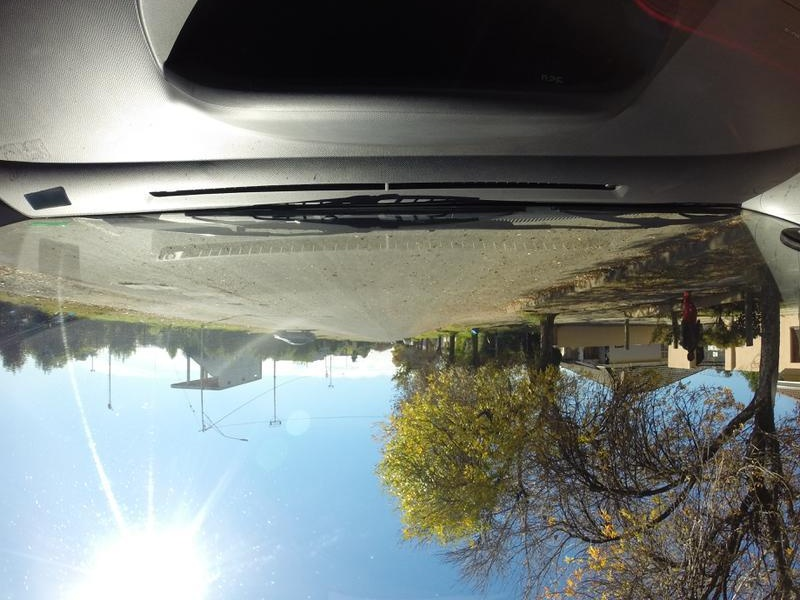pothole: (117, 279, 143, 286), (149, 279, 168, 286), (218, 302, 241, 306), (250, 301, 267, 306)
